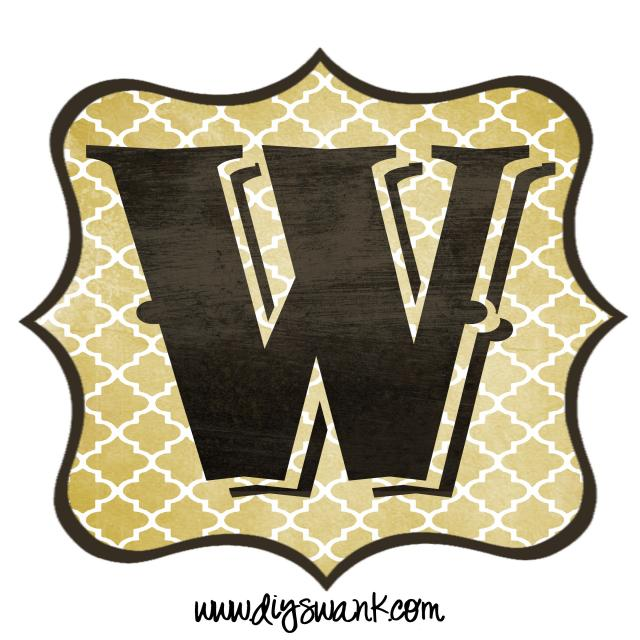W: (81, 116, 563, 534)
